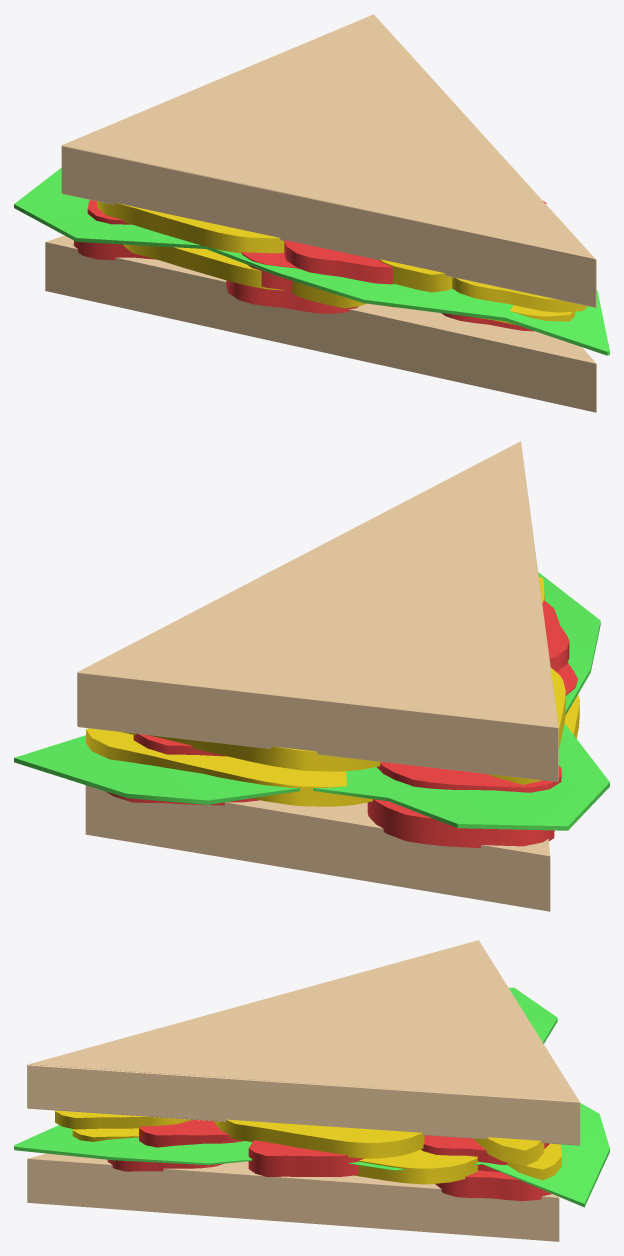
Rendered from Sandwich.gltf.
The picture shows the model from 3 angles, top to bottom: view 1: azimuth 30°, elevation 25°; view 2: azimuth 150°, elevation 25°; view 3: azimuth 270°, elevation 25°; orthographic projection. The views are drawn at different scales.
Parts seen in each view (by area): view 1: node-0; view 2: node-0; view 3: node-0.
Boxes of the visible parts, x1,y1,x2,y2 form: node-0: [14, 14, 609, 412]; node-0: [14, 441, 609, 911]; node-0: [14, 940, 609, 1241].
Size of the model in its own units: 1577 by 513 by 2008.
